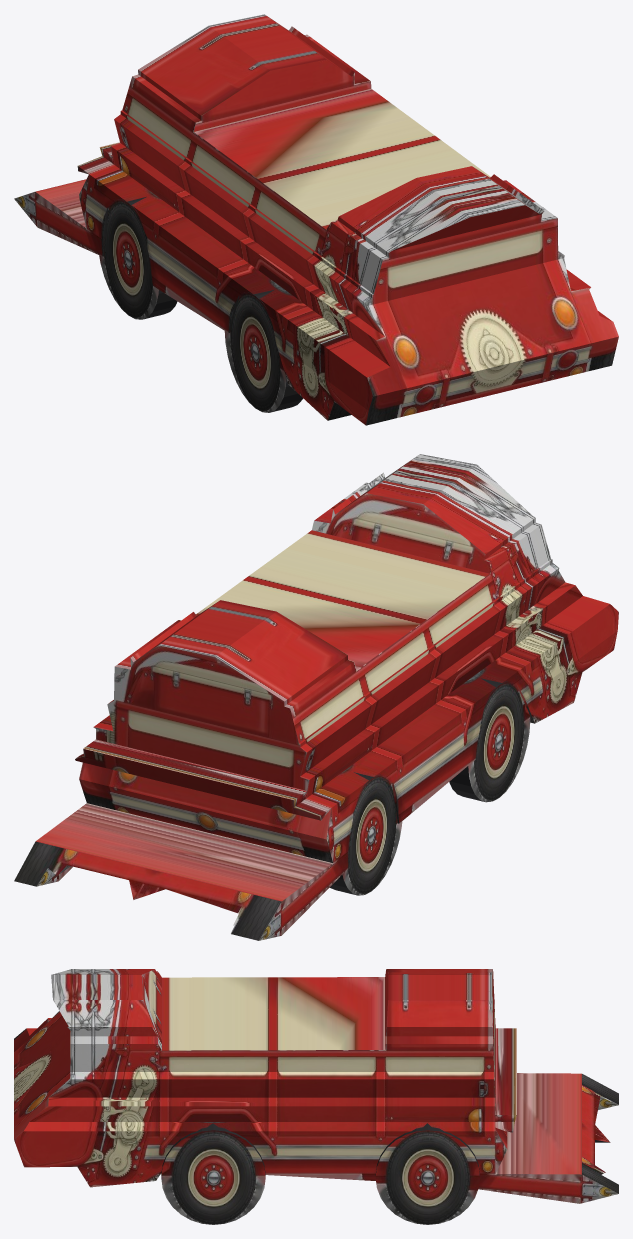
The model's file is manure_spreader.glb.
The picture shows the model from 3 angles, top to bottom: view 1: azimuth 30°, elevation 25°; view 2: azimuth 150°, elevation 25°; view 3: azimuth 270°, elevation 25°; orthographic projection. The views are drawn at different scales.
Parts seen in each view (by area): view 1: manure_spreader, wheel_BL, wheel_FL; view 2: manure_spreader, wheel_BL, wheel_FL; view 3: manure_spreader, wheel_BR, wheel_FR.
Boxes of the visible parts, x1=… form: manure_spreader: x1=14, y1=14, x2=618, y2=425; wheel_BL: x1=224, y1=289, x2=302, y2=412; wheel_FL: x1=99, y1=197, x2=177, y2=319; manure_spreader: x1=14, y1=454, x2=618, y2=940; wheel_BL: x1=449, y1=678, x2=530, y2=802; wheel_FL: x1=329, y1=772, x2=402, y2=895; manure_spreader: x1=14, y1=969, x2=618, y2=1203; wheel_BR: x1=161, y1=1123, x2=265, y2=1224; wheel_FR: x1=375, y1=1123, x2=479, y2=1224.
Bounding box in the file's own units: 2.43 × 2.15 × 5.99.
3 materials, 1 textured.
